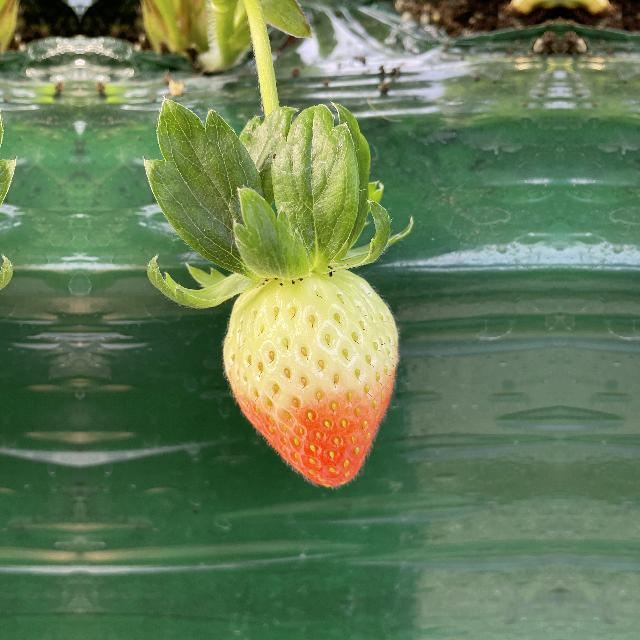Health_50: (213, 269, 404, 489)
